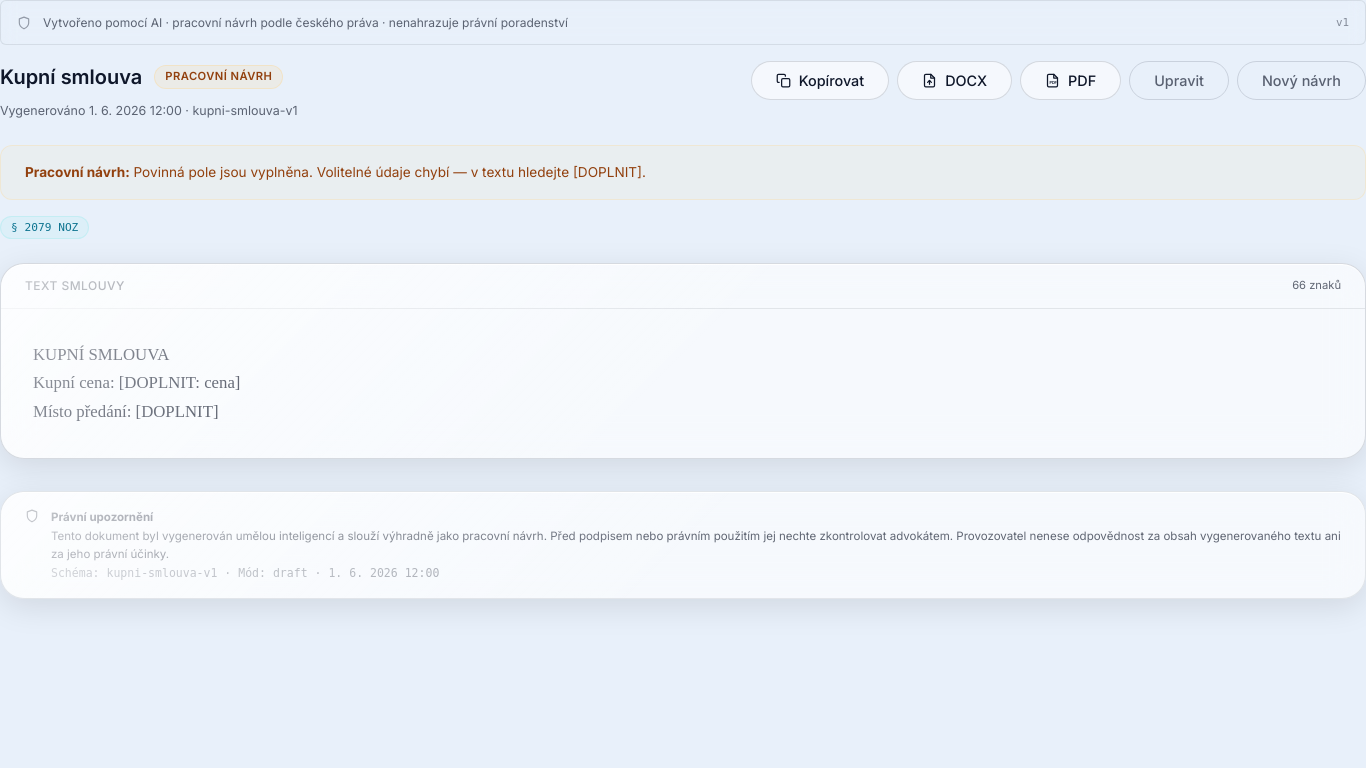
Test: ContractResult — pre-export gate › draft with [DOPLNIT] opens the warning and does NOT export yet
Click the button "DOCX" at x=955, y=81, box x1=897 y1=61 x2=1012 y2=100
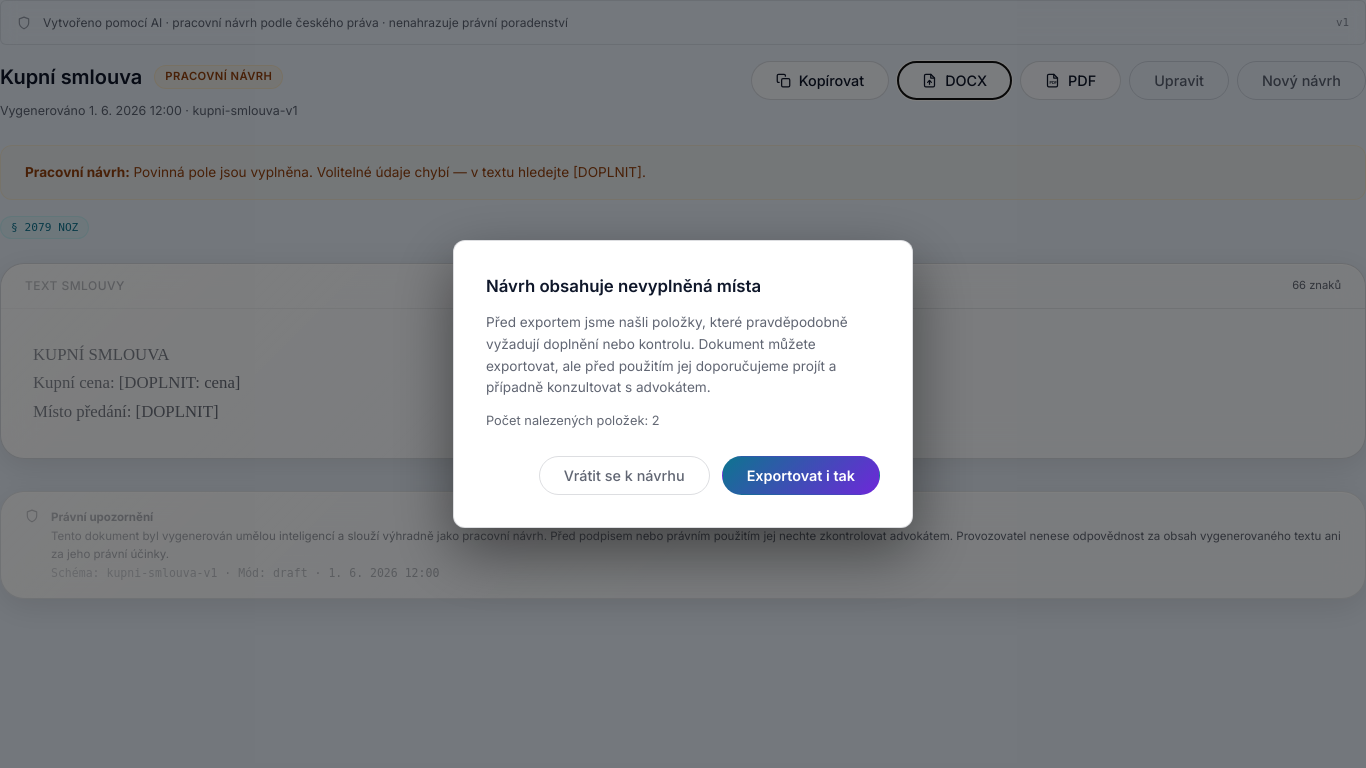
Result: the heading "Návrh obsahuje nevyplněná místa" is shown at x1=486 y1=276 x2=761 y2=296
Result: the text "Počet nalezených položek: 2" is shown at x1=486 y1=413 x2=660 y2=428
